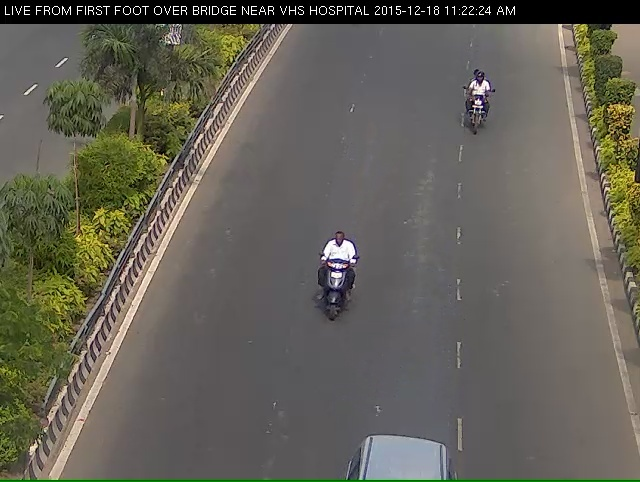Person: (305, 243, 359, 348), (457, 72, 496, 146)
